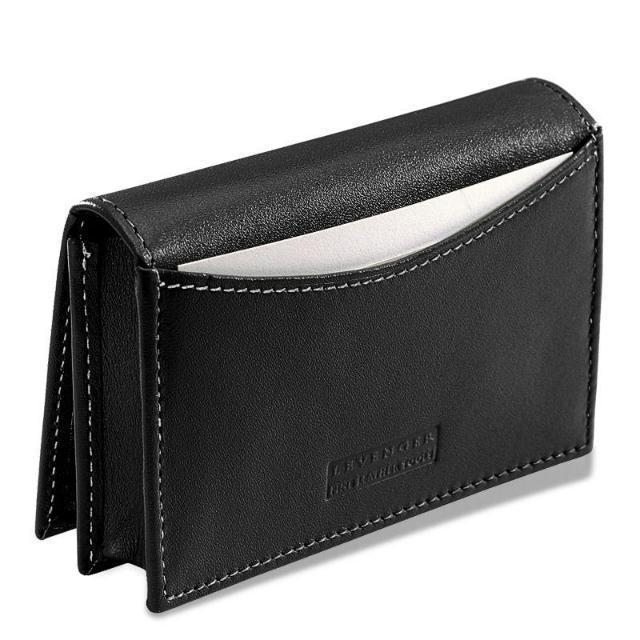wallet: (31, 80, 601, 612)
